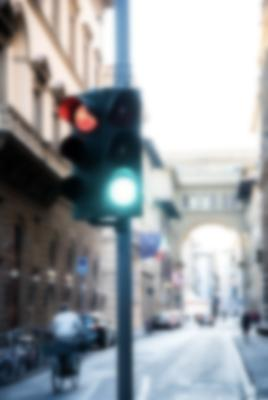International Road Signal Light: (58, 87, 144, 227)
